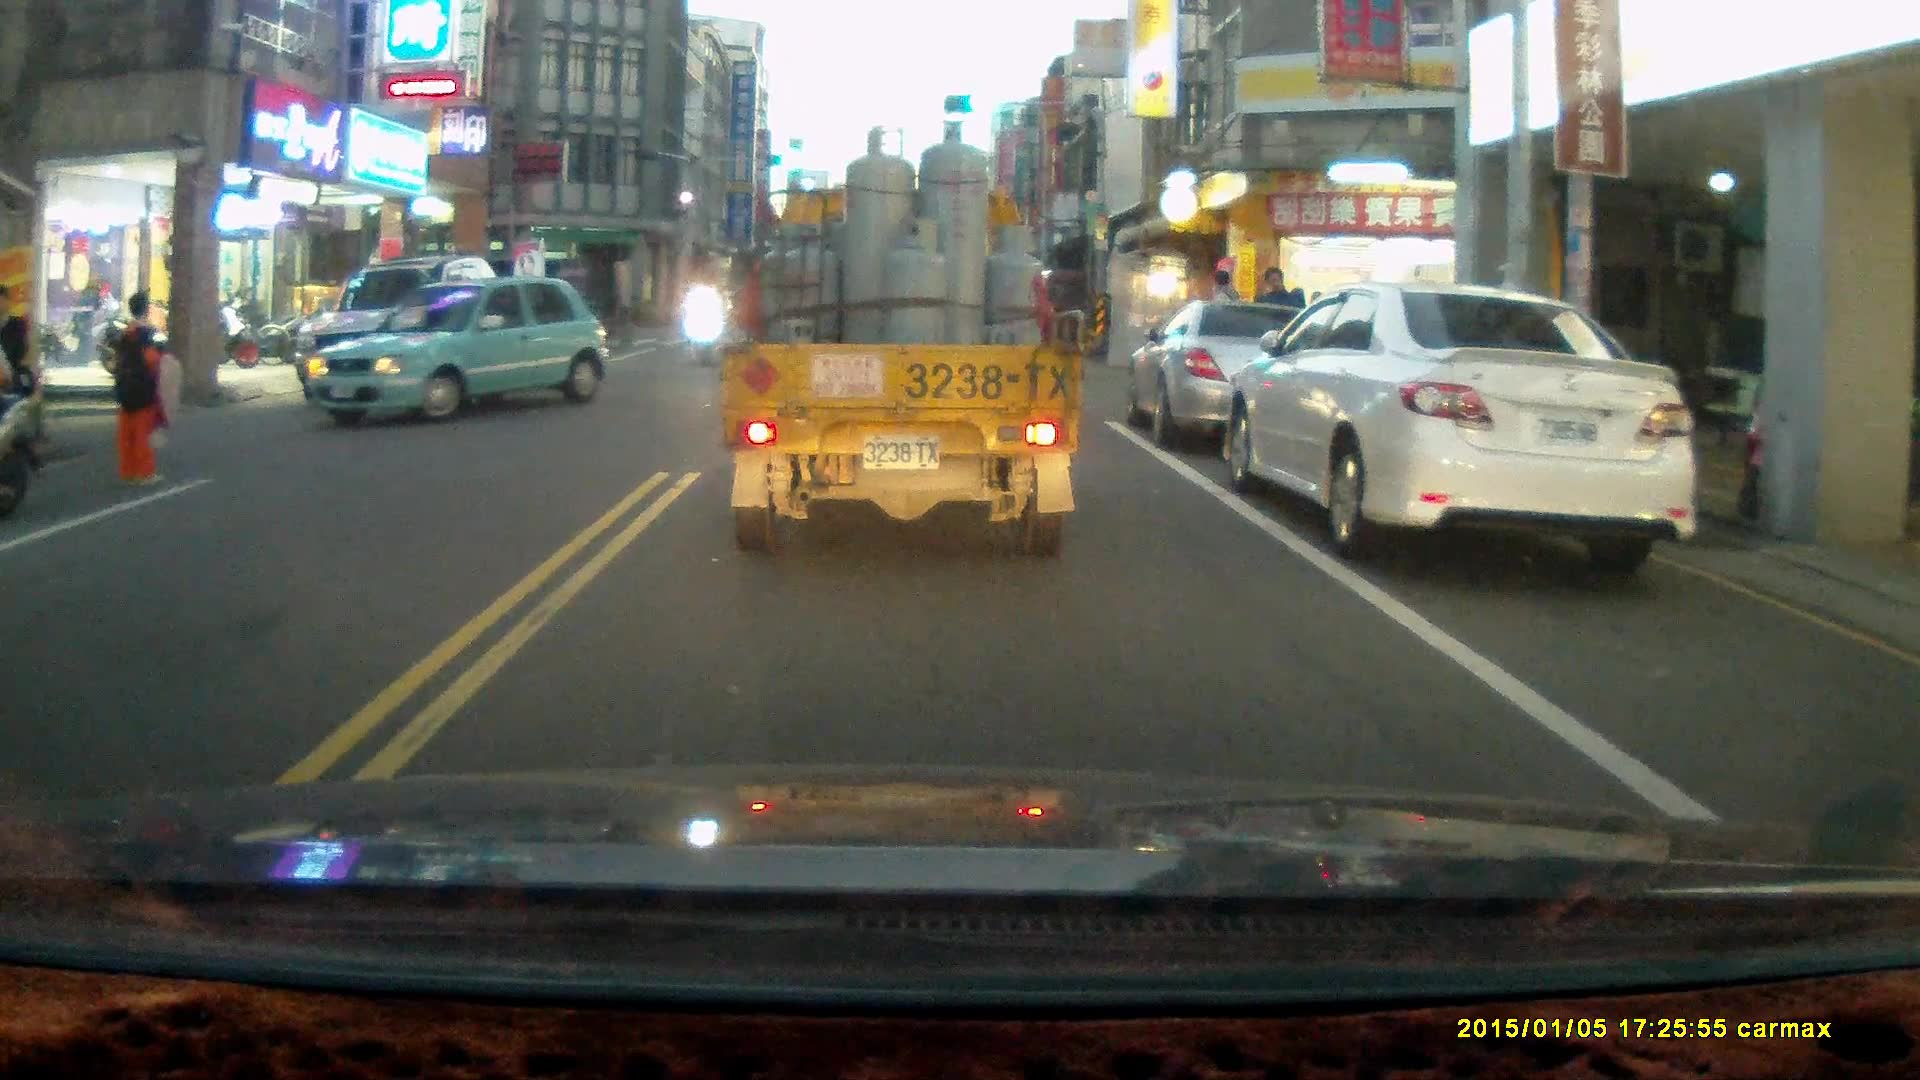pedestrian: (103, 290, 188, 488), (0, 280, 34, 428)
rider: (686, 278, 716, 366)
vehicle: (719, 122, 1082, 560), (1228, 281, 1704, 576), (1129, 298, 1414, 454), (313, 277, 607, 427)
